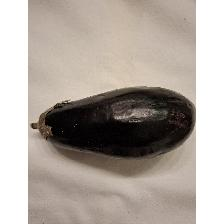Aubergine: (29, 84, 194, 162)
